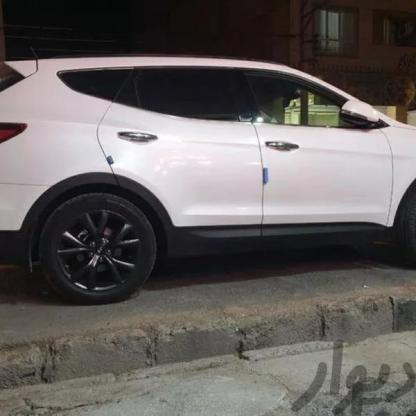Car: (0, 46, 416, 319)
